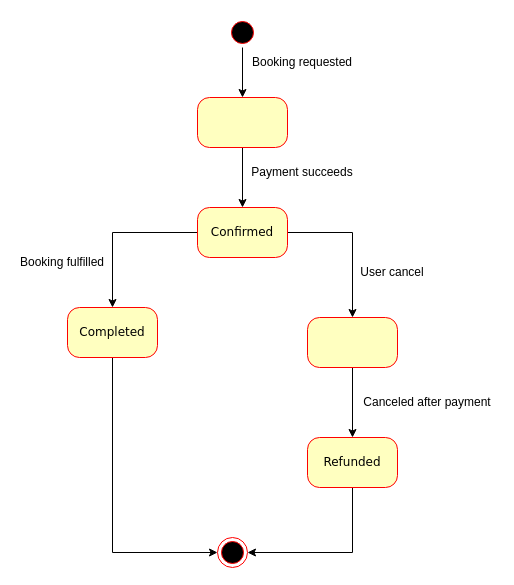
This 514x585 diagram has some shape labels left out. Each missing label, with the centre of its shape:
Canceled: point 352,342
Pending: point 242,122
